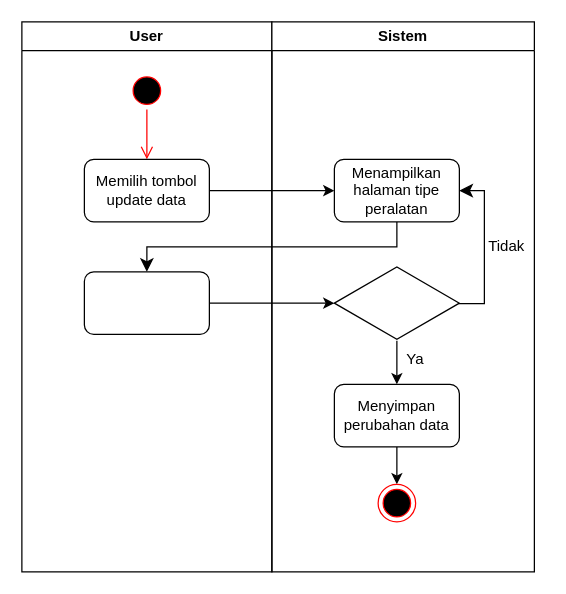
Image size: 566x594. Some labels were removed from this diagram. Here are the shapes that lost their labels. From the top down, the centre of each, then its label:
the point at 146,302: Mengubah data tipe pada form update
the point at 396,302: Validasi data
